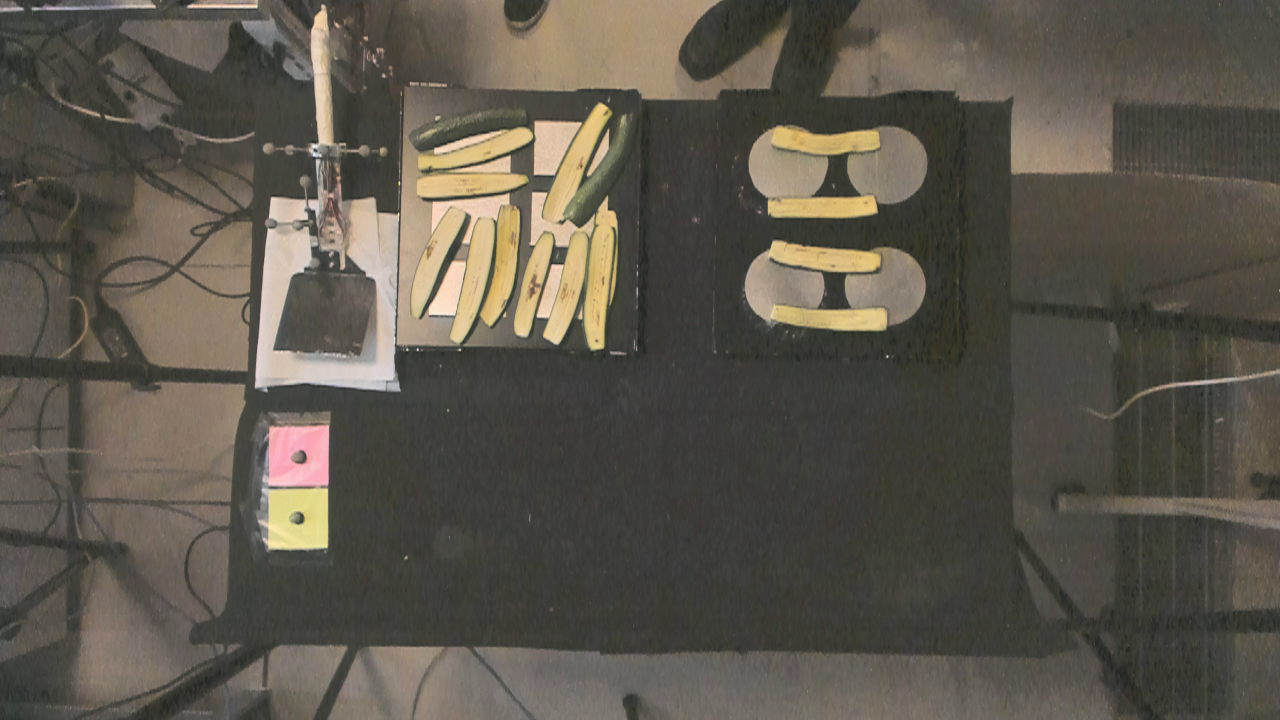marker: (268, 428, 330, 485)
zucchini: (562, 106, 652, 228), (538, 92, 613, 231), (445, 211, 503, 341), (407, 204, 463, 326), (516, 221, 564, 348), (479, 202, 518, 345), (766, 124, 895, 163), (414, 128, 546, 166), (763, 189, 886, 228), (546, 225, 585, 348), (768, 237, 888, 275), (406, 164, 536, 196), (587, 223, 618, 357), (767, 299, 894, 331), (414, 106, 526, 138)
